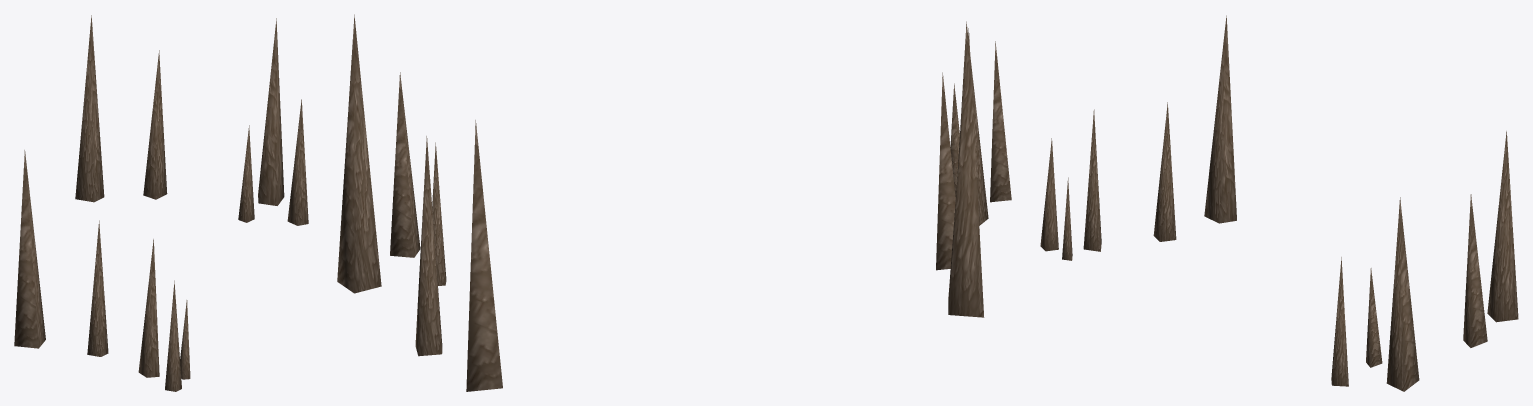
File: area_13_10.FBX
3 views of the same model, side by side, from view 1: azimuth 30°, elevation 25°; view 2: azimuth 150°, elevation 25°; view 3: azimuth 270°, elevation 25° (orthographic). The views are drawn at different scales.
Parts seen in each view (by area): view 1: area_13_10; view 2: area_13_10; view 3: area_13_10.
Boxes of the visible parts, box(x1,y1,x2,y2) form: area_13_10: box(14, 15, 308, 391); area_13_10: box(337, 14, 1011, 391); area_13_10: box(1040, 15, 1518, 391).
Size of the model in its own units: 26.45 by 13.86 by 29.6.
